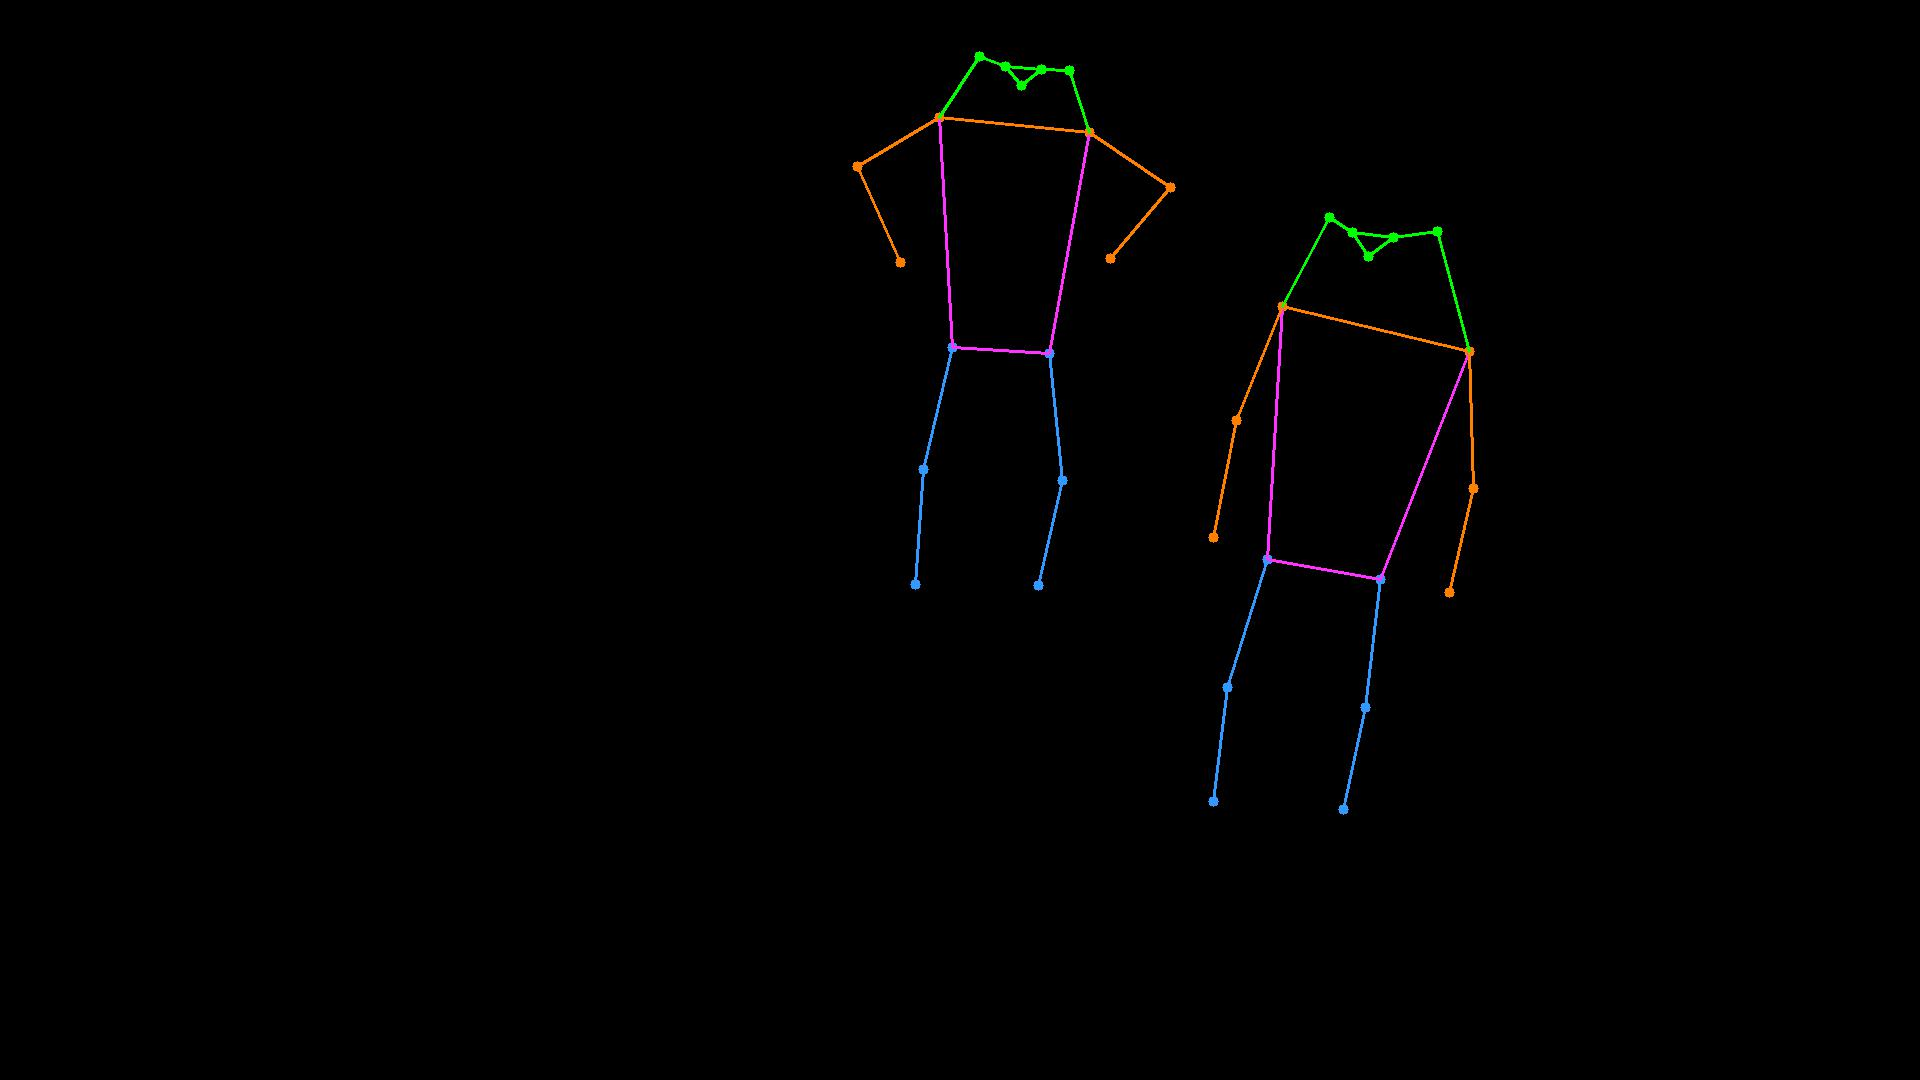normal: (1147, 169, 1563, 853), (785, 28, 1208, 626)
